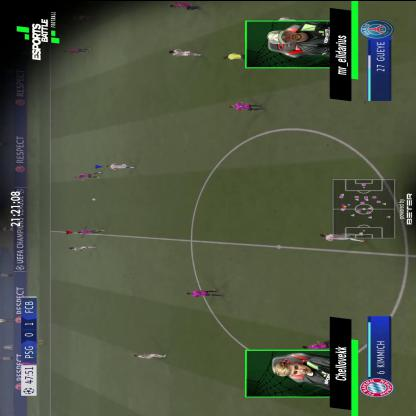ball: (92, 198, 96, 200)
